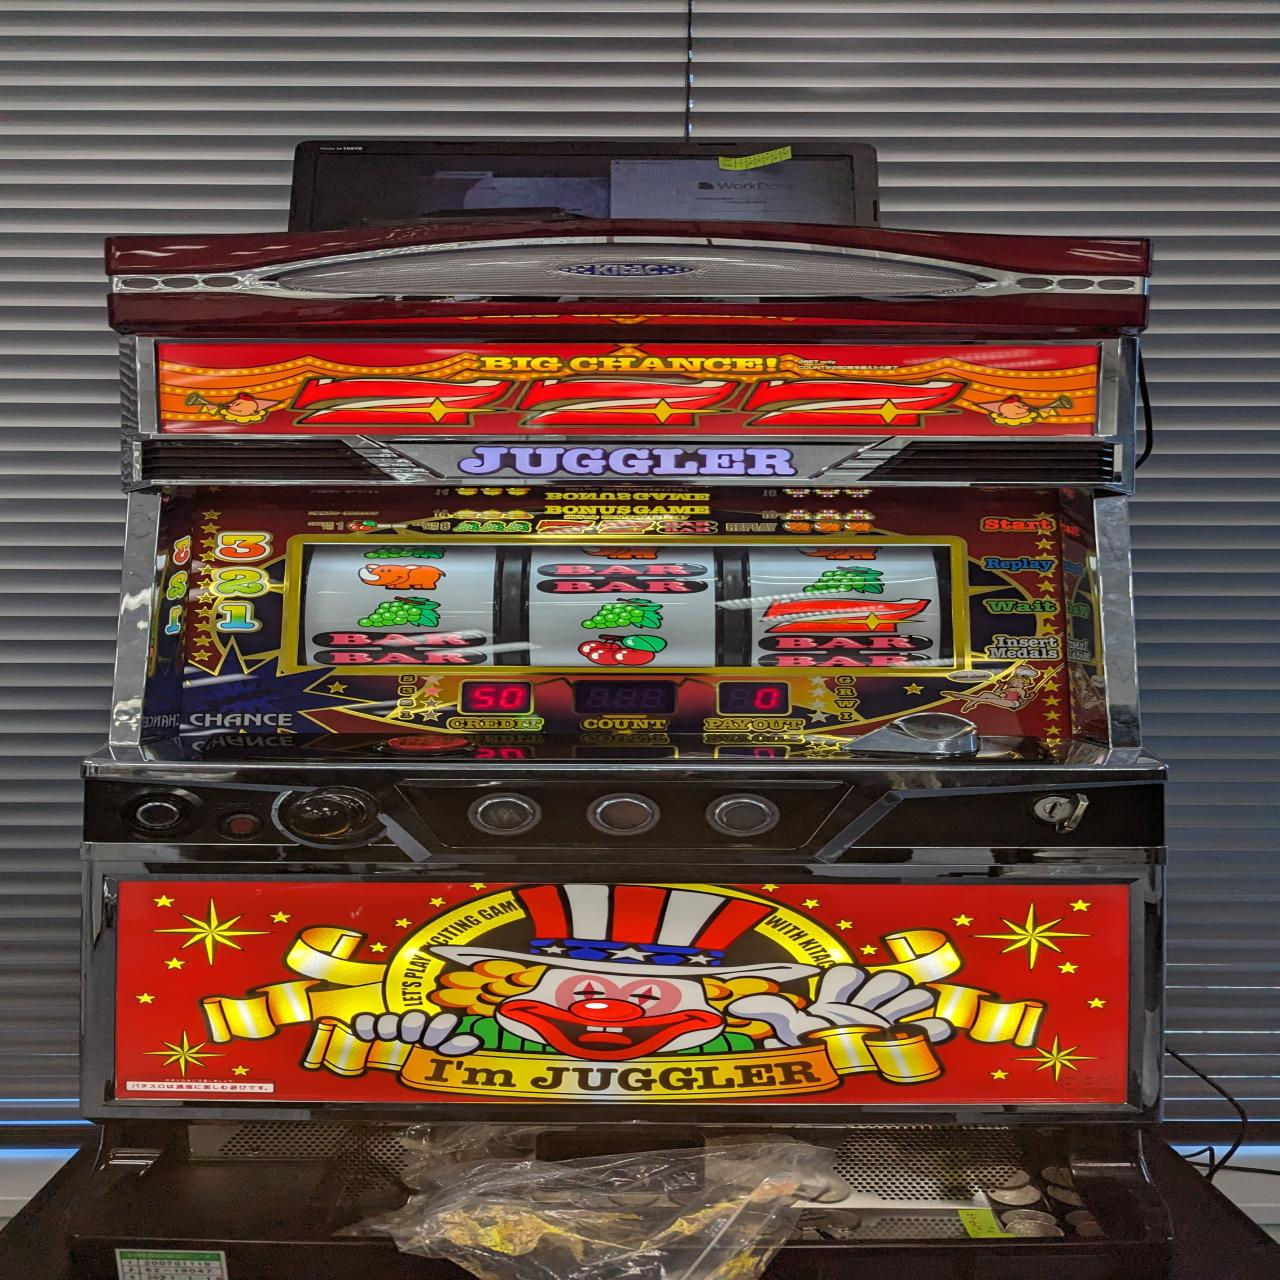7: (757, 598, 934, 634)
Display: (299, 539, 961, 672)
bar: (308, 628, 491, 667), (760, 633, 942, 668), (531, 561, 713, 595)
cherry: (579, 633, 669, 667)
grape: (355, 595, 448, 631), (577, 595, 667, 631), (801, 565, 886, 599)
rhino: (355, 561, 448, 594)
